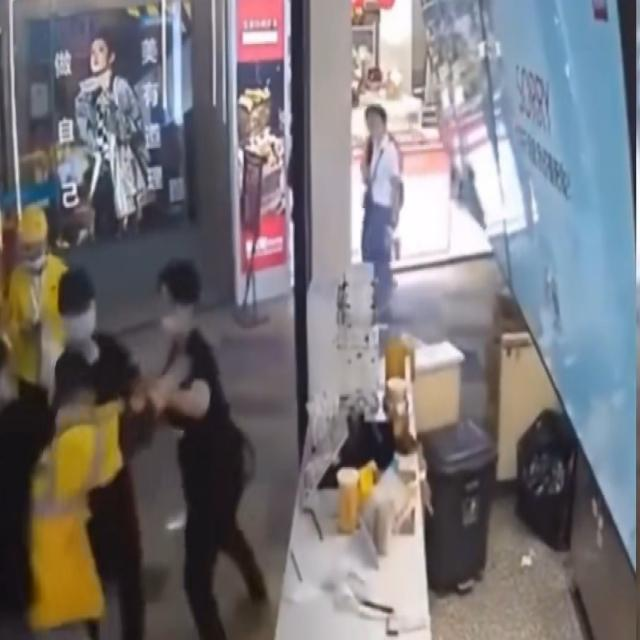fight: (54, 262, 206, 474)
nofight: (9, 202, 65, 374), (352, 109, 400, 278)
